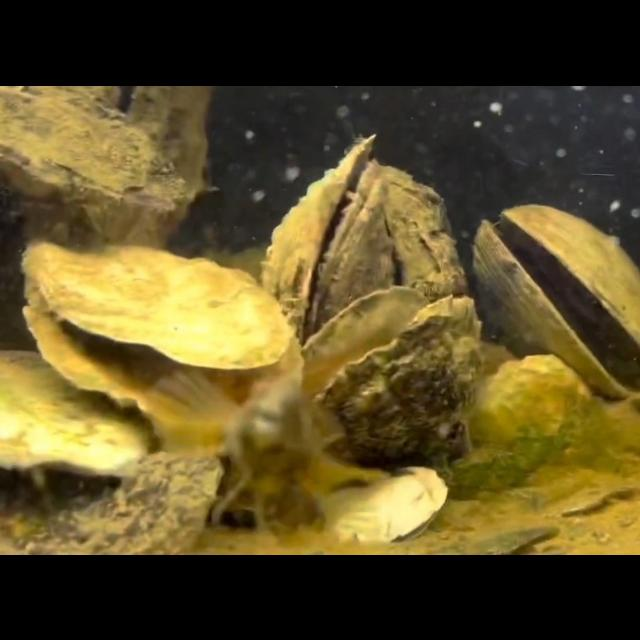Oyster-Closed: (1, 85, 190, 213), (0, 450, 226, 554), (432, 353, 590, 489), (0, 345, 154, 477), (377, 163, 467, 303)
Oyster-Open: (22, 237, 304, 431), (292, 284, 482, 464), (470, 202, 640, 398), (259, 132, 397, 342), (59, 85, 212, 251), (332, 466, 448, 546)
